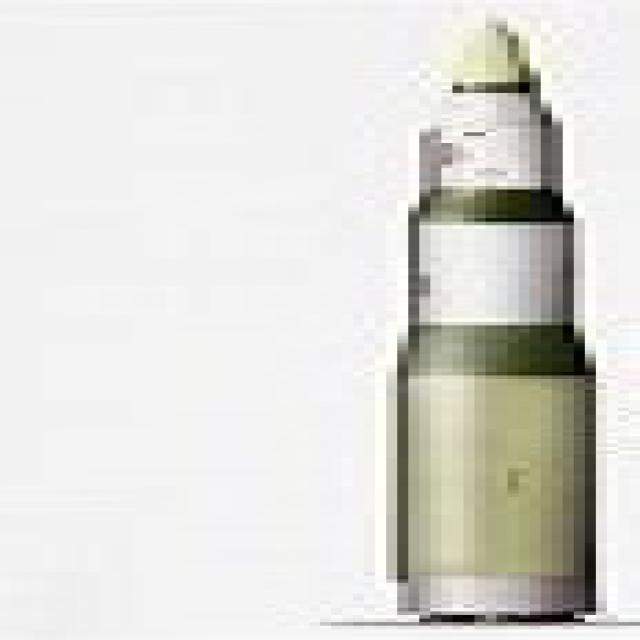missile: (385, 20, 592, 619)
